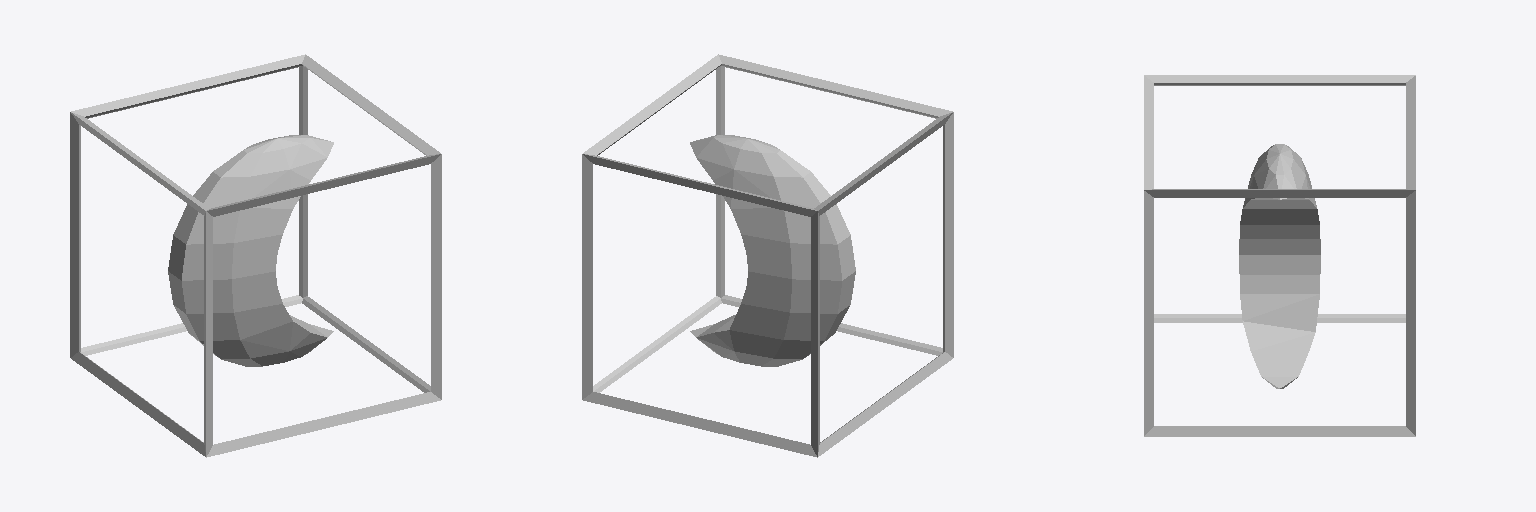
File: Mondsichelform_Trigger.obj
3 renders of one model, left to right at view 1: azimuth 30°, elevation 25°; view 2: azimuth 150°, elevation 25°; view 3: azimuth 270°, elevation 25°, orthographic.
Parts seen in each view (by area): view 1: Mondsichelform_Trigger1_Cube.013; view 2: Mondsichelform_Trigger1_Cube.013; view 3: Mondsichelform_Trigger1_Cube.013.
Part boxes in pixels (bbox=[...]): Mondsichelform_Trigger1_Cube.013: bbox=[70, 54, 441, 457]; Mondsichelform_Trigger1_Cube.013: bbox=[582, 54, 953, 457]; Mondsichelform_Trigger1_Cube.013: bbox=[1144, 75, 1415, 436].
Bounding box in the file's own units: 1.03 × 1.03 × 1.03.